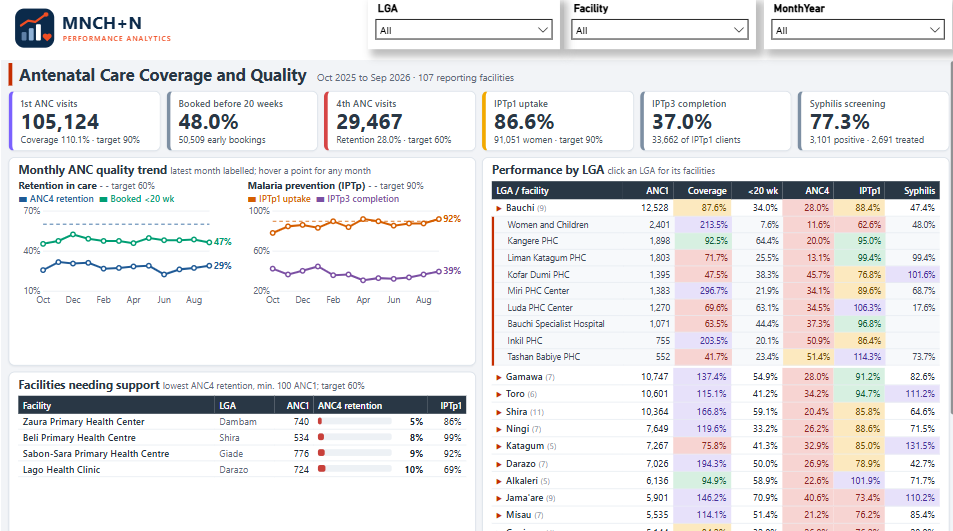

The dashboard page shown, as its layout file describes it:
{"tool":"powerbi","page":{"name":"ANC Coverage","canvas":[1280,720],"ordinal":4},"visuals":[{"type":"htmlContent443BE3AD55E043BF878BED274D3A6855","fields":{"content":["KPI Targets.P ANC Page"]},"box":[0,84,1280,635.9],"z":0},{"type":"slicer","fields":{"Values":["Factility.Facility"]},"box":[753.2,6.6,255.1,67.7],"z":2000},{"type":"slicer","fields":{"Values":["Factility.LGA"]},"box":[492.8,6.6,255.1,67.7],"z":3000},{"type":"slicer","fields":{"Values":["Calendar.MonthYear"]},"box":[1018.9,6.6,249.7,67.7],"z":4000},{"type":"htmlContent443BE3AD55E043BF878BED274D3A6855","fields":{"content":["KPI Targets.Brand Logo SVG"]},"box":[14,12,245,60],"z":4001}]}

Visuals, with their boxes in screenshot pixels (x1, y1, x2, y2), scaled from the page's 1280x720 canvas onto the 953x531 screenshot:
htmlContent443BE3AD55E043BF878BED274D3A6855 - KPI Targets.P ANC Page: rect(0, 62, 952, 530)
slicer - Factility.Facility: rect(561, 5, 751, 55)
slicer - Factility.LGA: rect(367, 5, 557, 55)
slicer - Calendar.MonthYear: rect(759, 5, 945, 55)
htmlContent443BE3AD55E043BF878BED274D3A6855 - KPI Targets.Brand Logo SVG: rect(10, 9, 193, 53)
